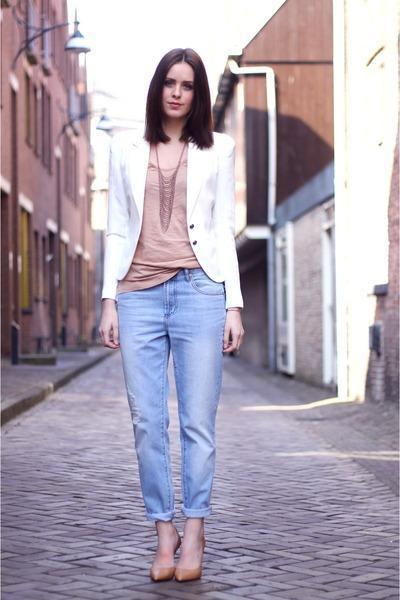jacket: (94, 119, 245, 308)
pants: (105, 276, 239, 520)
shirt: (117, 134, 219, 291)
shoe: (148, 517, 227, 578)
